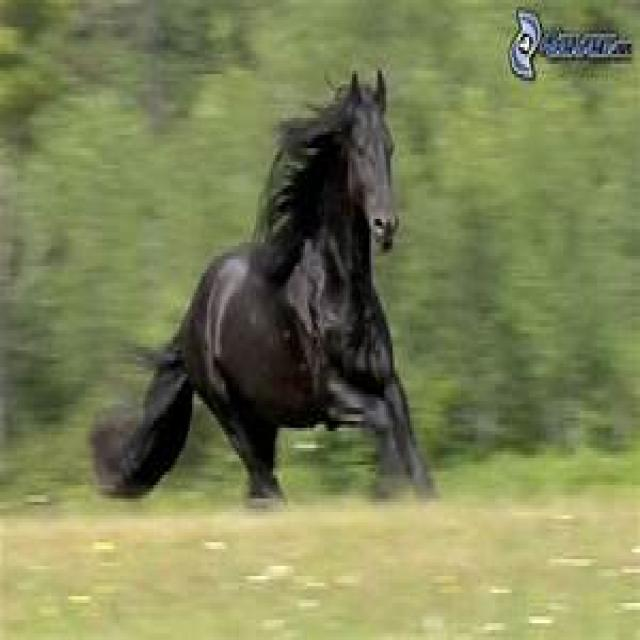horse: (92, 75, 432, 498)
